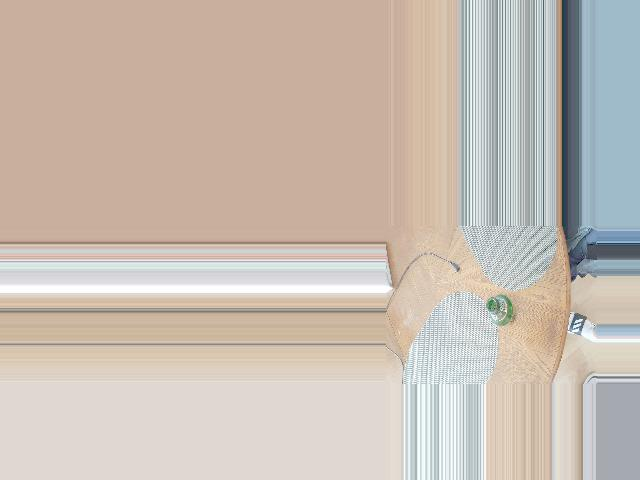beer: (486, 294, 516, 326)
